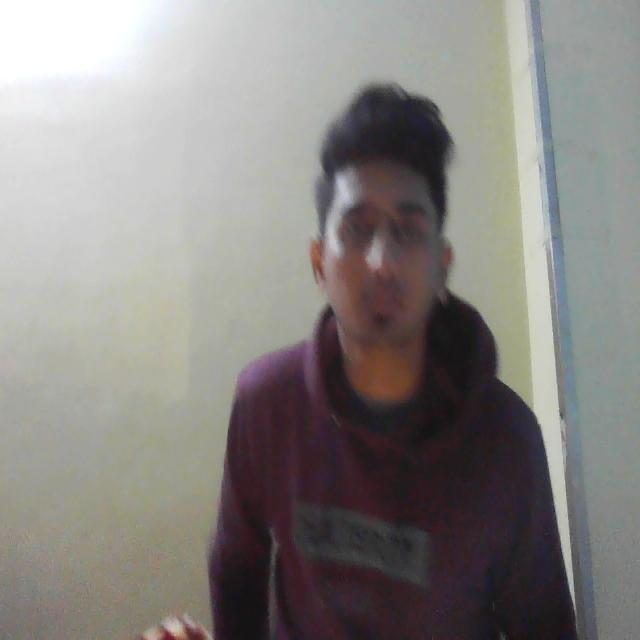real: (313, 95, 463, 377)
